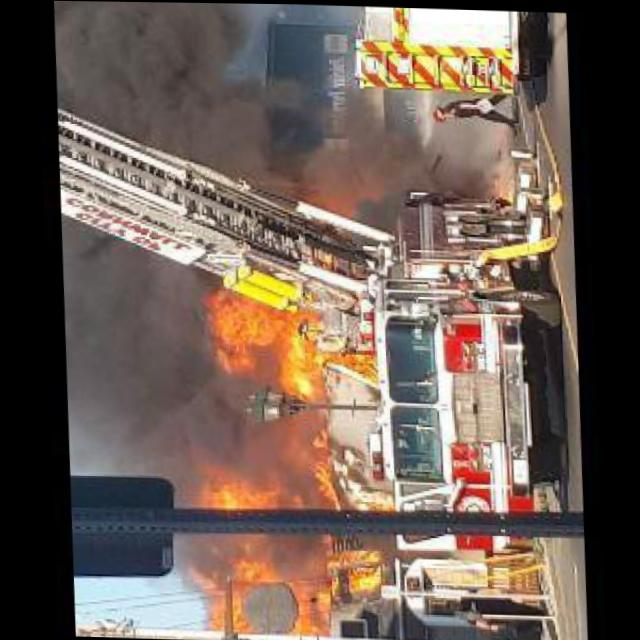Fire: (171, 264, 378, 640), (273, 99, 507, 206)
